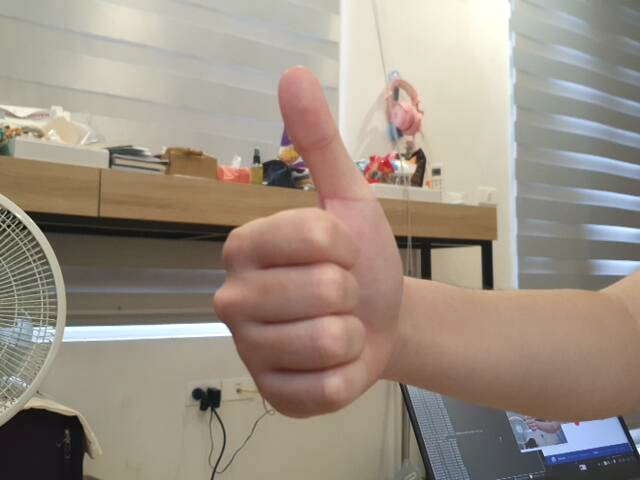ThumbsUp: (206, 62, 406, 426)
